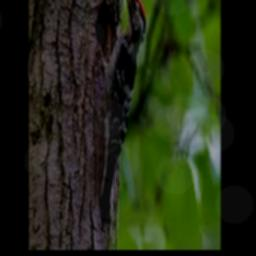Woodpecker: (95, 0, 146, 228)
